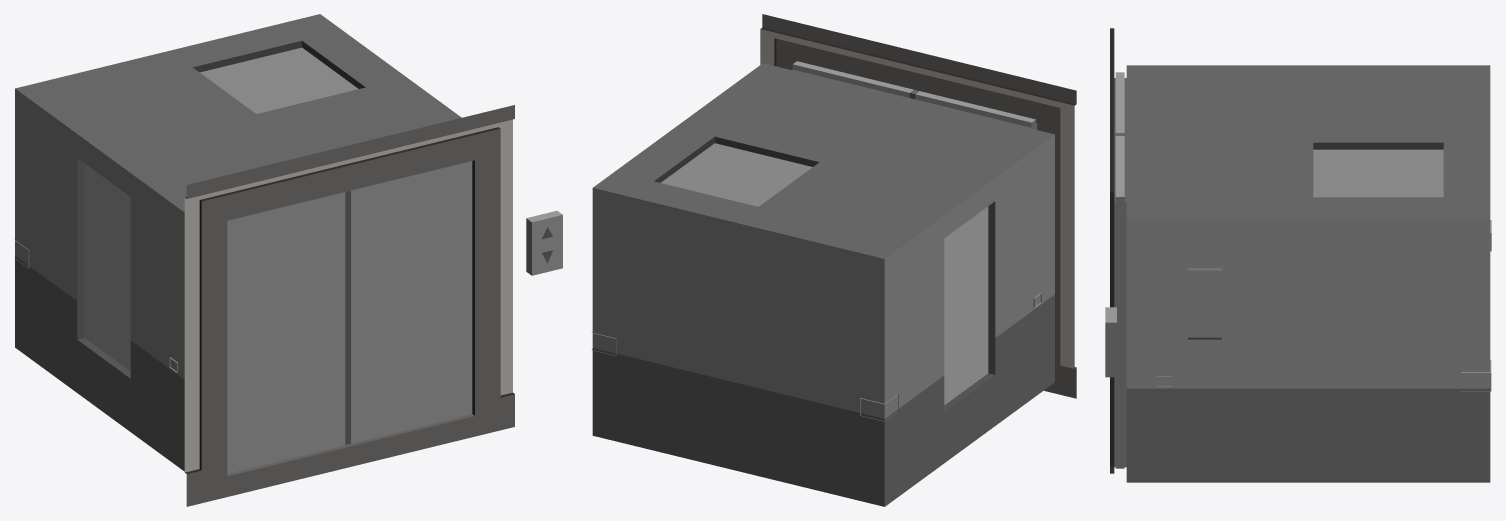
The model's file is Wall4.FBX.
3 views of the same model, side by side, from view 1: azimuth 30°, elevation 25°; view 2: azimuth 150°, elevation 25°; view 3: azimuth 270°, elevation 25° (orthographic). The views are drawn at different scales.
Parts seen in each view (by area): view 1: SM_Wall_Elevator_01; view 2: SM_Wall_Elevator_01; view 3: SM_Wall_Elevator_01.
Boxes of the visible parts, box(x1,y1,x2,y2) form: SM_Wall_Elevator_01: box(14, 14, 562, 506); SM_Wall_Elevator_01: box(591, 14, 1076, 506); SM_Wall_Elevator_01: box(1105, 28, 1491, 482).
Bounding box in the file's own units: 224 × 184 × 196.
